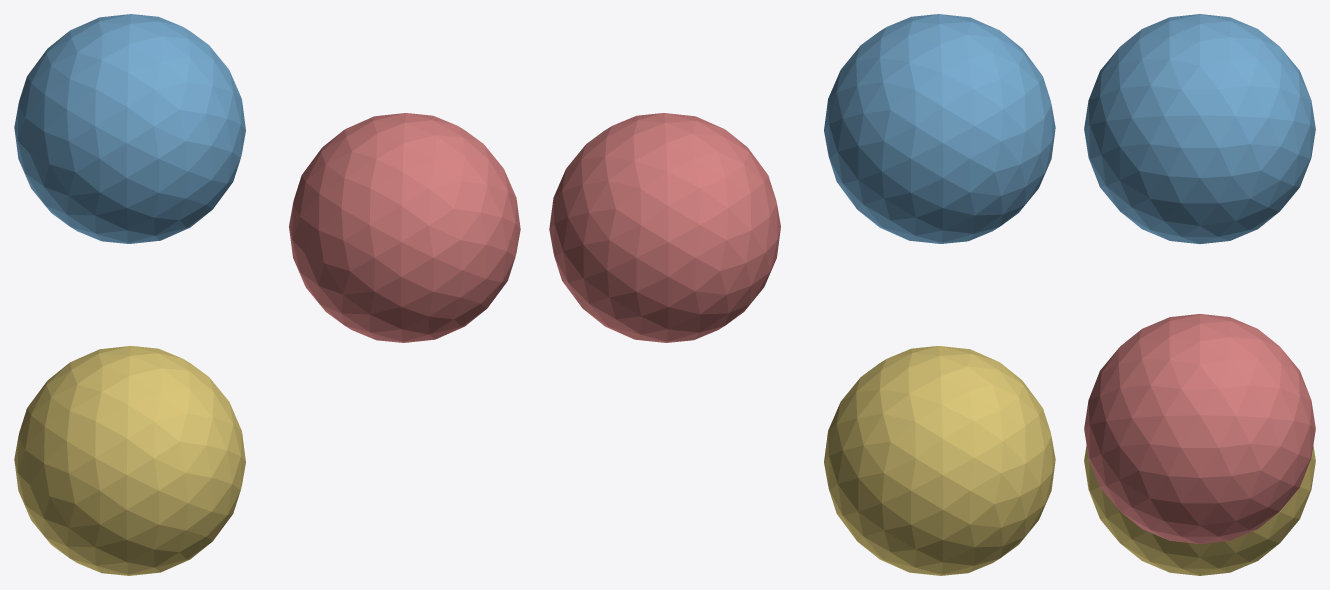
The model's file is count3.glb.
The picture shows the model from 3 angles, left to right: view 1: azimuth 30°, elevation 25°; view 2: azimuth 150°, elevation 25°; view 3: azimuth 270°, elevation 25°; orthographic projection.
Visible parts, largest first — view 1: geometry_0; view 2: geometry_0; view 3: geometry_0.
Part boxes in pixels (x1,y1,x2,y2): geometry_0: [14, 14, 520, 575]; geometry_0: [549, 14, 1055, 575]; geometry_0: [1084, 14, 1315, 575].
Bounding box in the file's own units: 0.7678 × 0.8365 × 0.3243.
